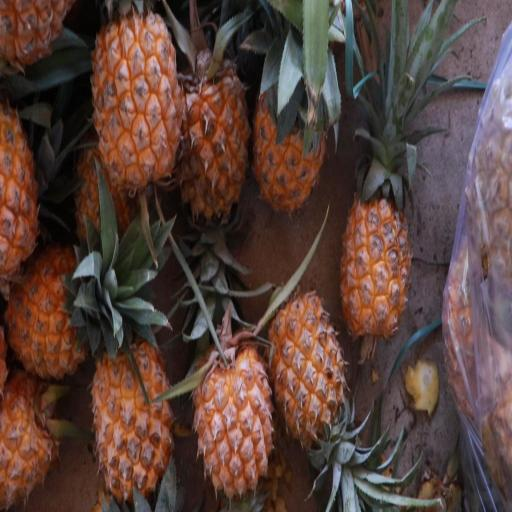Pineapple - v8 v1: (90, 0, 184, 222), (7, 234, 134, 382), (264, 282, 350, 477), (191, 325, 278, 499), (86, 347, 176, 512), (338, 153, 416, 343), (179, 38, 254, 235), (250, 47, 329, 223), (0, 360, 71, 512), (0, 97, 53, 298)
